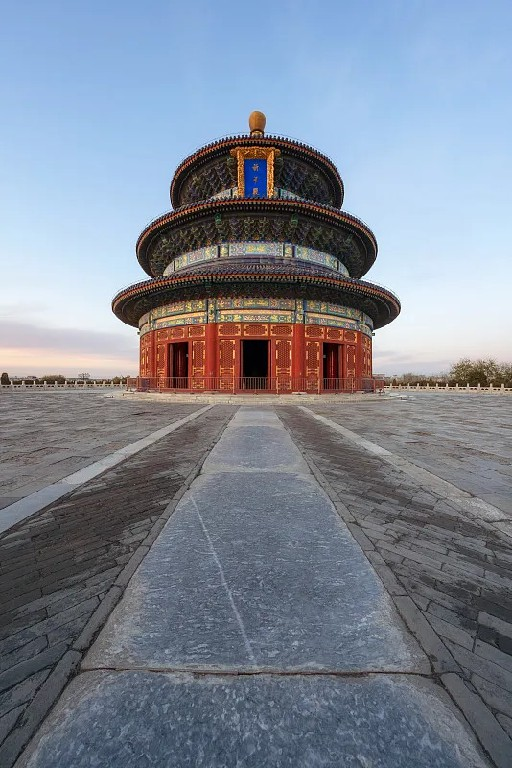Heaven: (110, 111, 402, 394)
